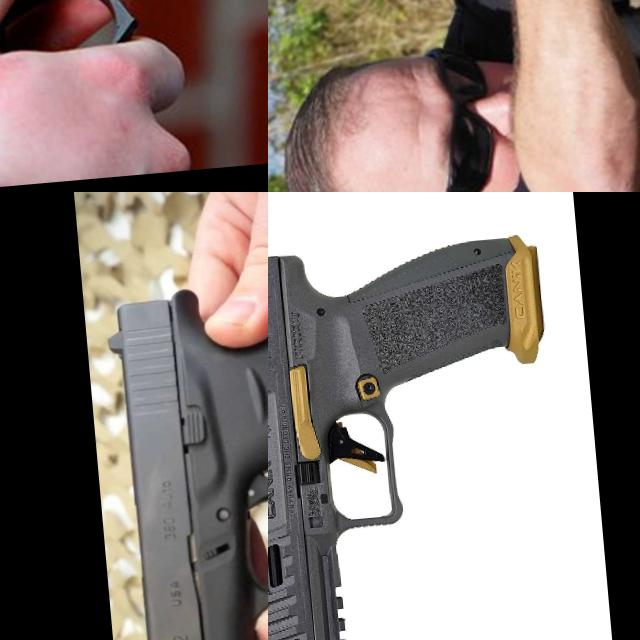handgun: (268, 226, 580, 640), (100, 260, 268, 640), (0, 0, 268, 192), (401, 0, 513, 100)
